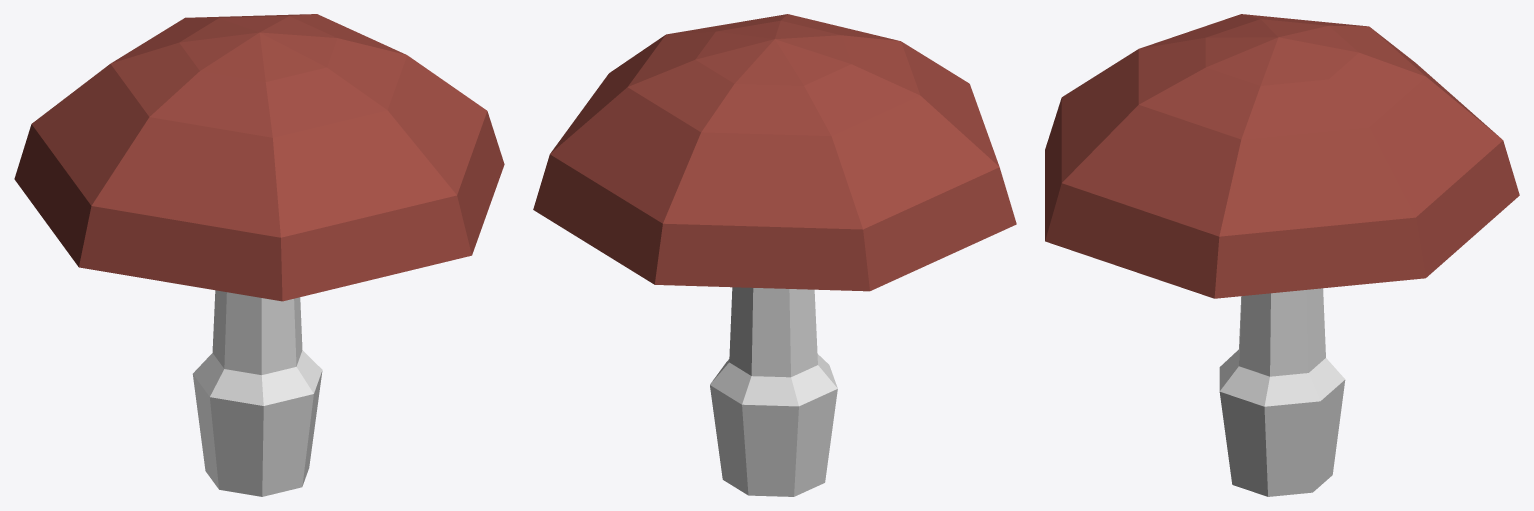
The model's file is Mushroom.glb.
The picture shows the model from 3 angles, left to right: view 1: azimuth 30°, elevation 25°; view 2: azimuth 150°, elevation 25°; view 3: azimuth 270°, elevation 25°; orthographic projection.
Visible parts, largest first — view 1: Mushroom; view 2: Mushroom; view 3: Mushroom.
Boxes of the visible parts, x1,y1,x2,y2 form: Mushroom: (14,14,504,496); Mushroom: (533,14,1016,496); Mushroom: (1045,14,1519,496).
Size of the model in its own units: 0.7057 by 0.7008 by 0.688.
